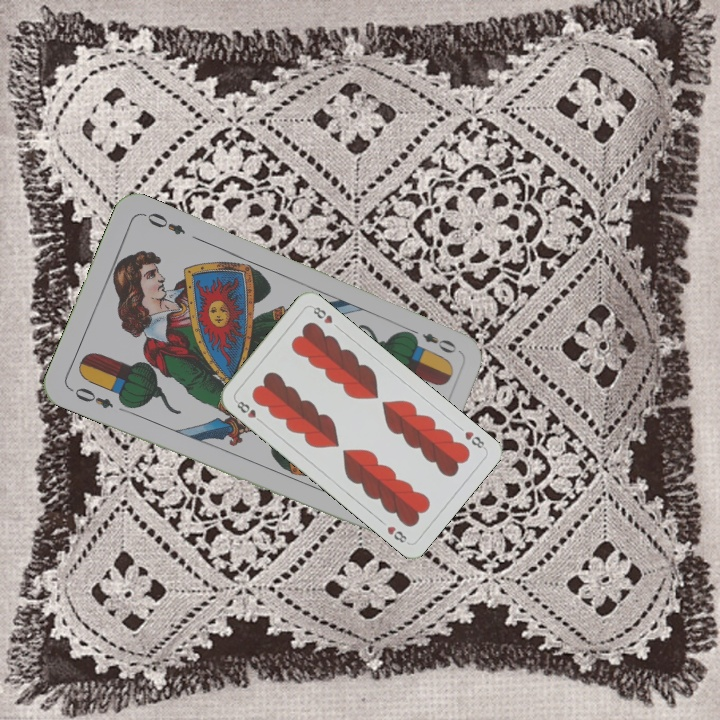EO: (404, 324, 460, 356), (66, 383, 116, 411)
H8: (231, 396, 266, 426), (460, 427, 489, 452)
